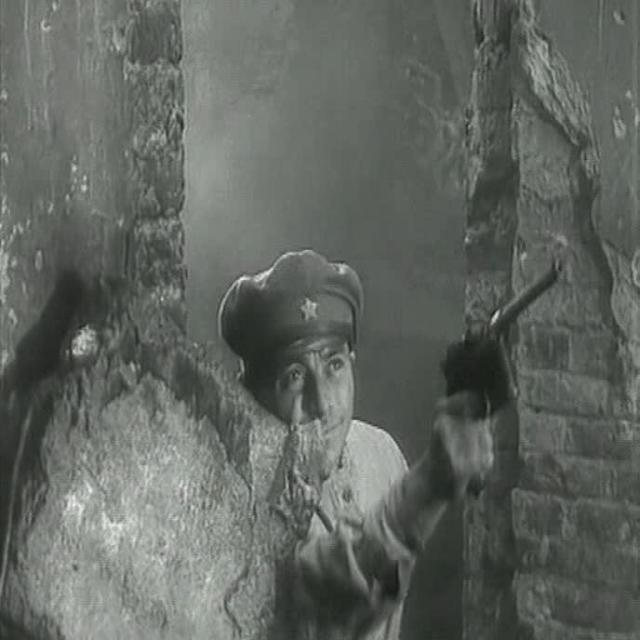gun-knife-thesis - v11 Yolov5 augmented: (429, 247, 589, 490)
